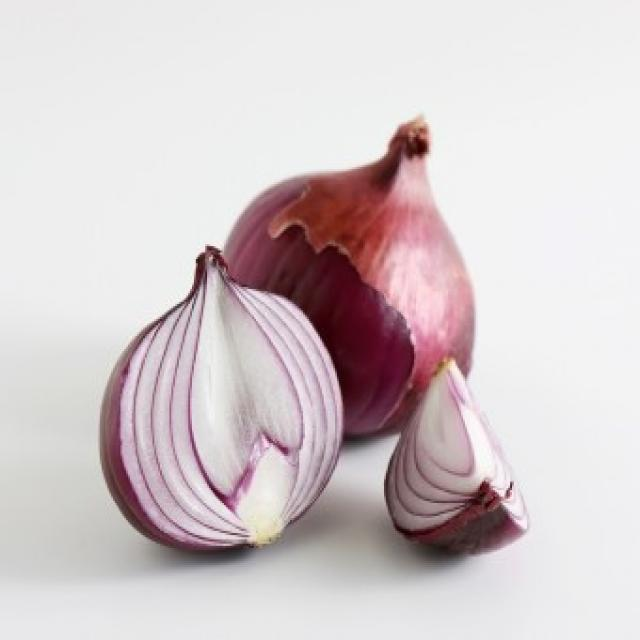onion: (89, 236, 322, 528), (260, 146, 504, 378), (403, 372, 521, 544)
